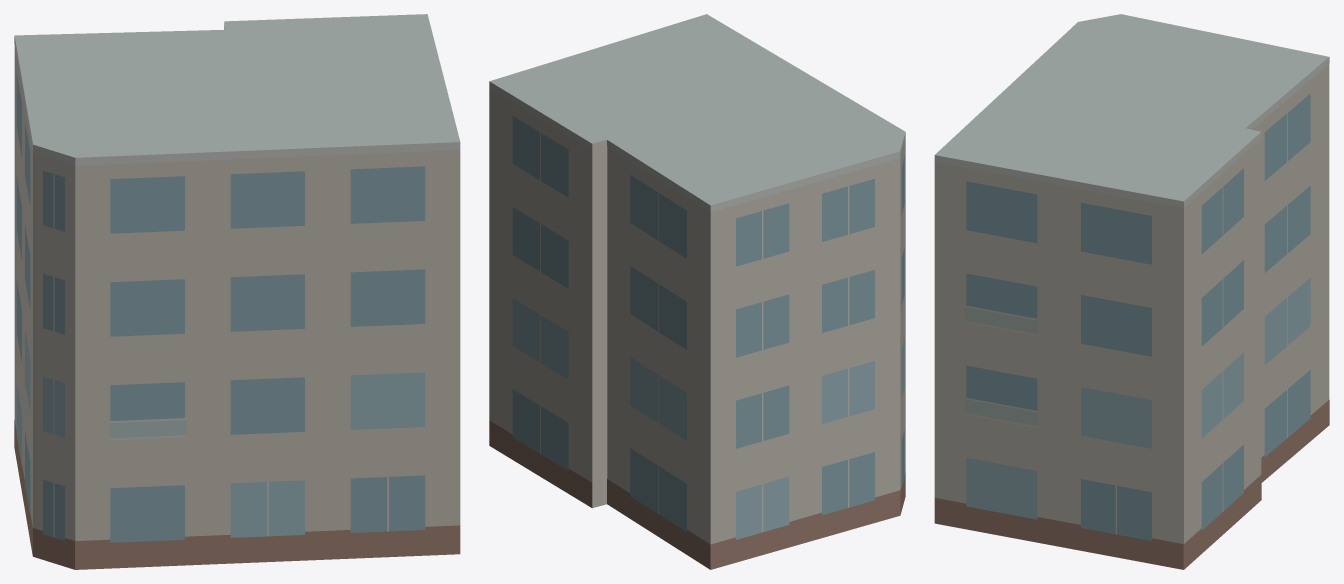
The model's file is survey-upis-32726258.glb.
The picture shows the model from 3 angles, left to right: view 1: azimuth 30°, elevation 25°; view 2: azimuth 150°, elevation 25°; view 3: azimuth 270°, elevation 25°; orthographic projection. The views are drawn at different scales.
Parts seen in each view (by area): view 1: survey-upis-32726258.tmp; view 2: survey-upis-32726258.tmp; view 3: survey-upis-32726258.tmp.
Part boxes in pixels (x1,y1,x2,y2): survey-upis-32726258.tmp: [14, 14, 460, 569]; survey-upis-32726258.tmp: [489, 14, 905, 569]; survey-upis-32726258.tmp: [934, 14, 1329, 569].
Size of the model in its own units: 14.03 by 12.85 by 12.49.
